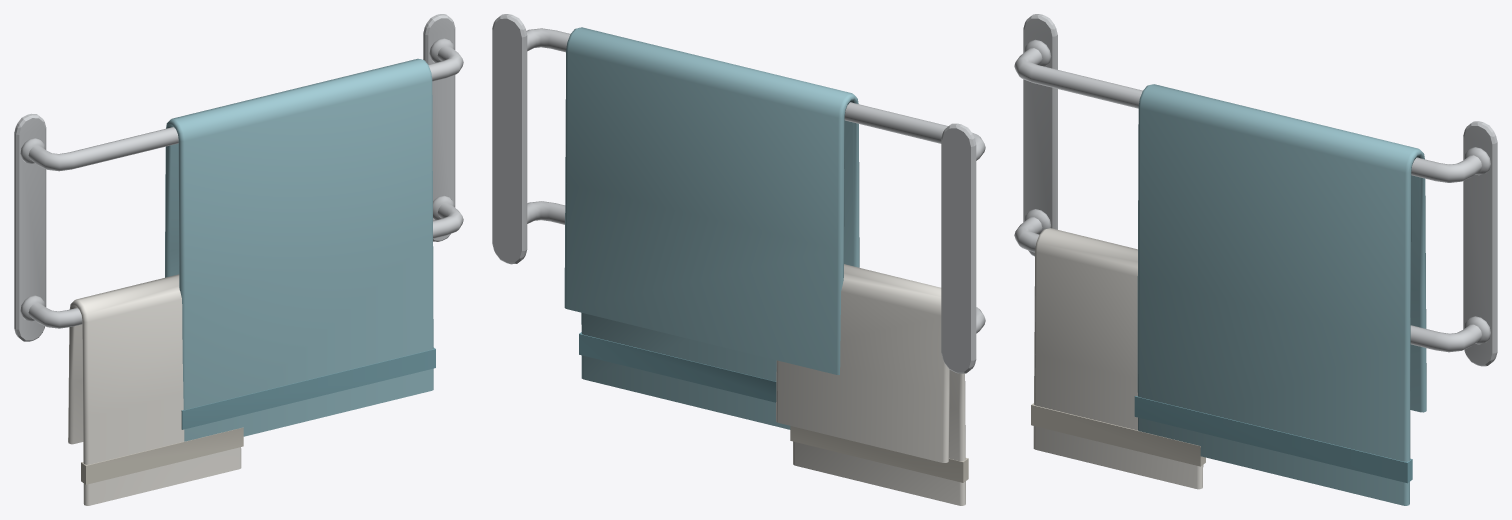
Rendered from towelRail.glb.
The picture shows the model from 3 angles, left to right: view 1: azimuth 30°, elevation 25°; view 2: azimuth 150°, elevation 25°; view 3: azimuth 330°, elevation 25°; orthographic projection. The views are drawn at different scales.
Visible parts, largest first — view 1: towelRail; view 2: towelRail; view 3: towelRail.
Part boxes in pixels (<box>): towelRail: <box>14,14,463,505</box>; towelRail: <box>492,14,985,505</box>; towelRail: <box>1014,14,1497,505</box>.
Bounding box in the file's own units: 0.73 × 0.5942 × 0.099.
